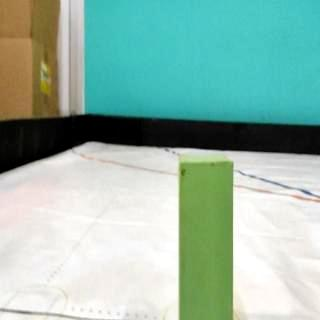greenbox: (178, 153, 234, 320)
